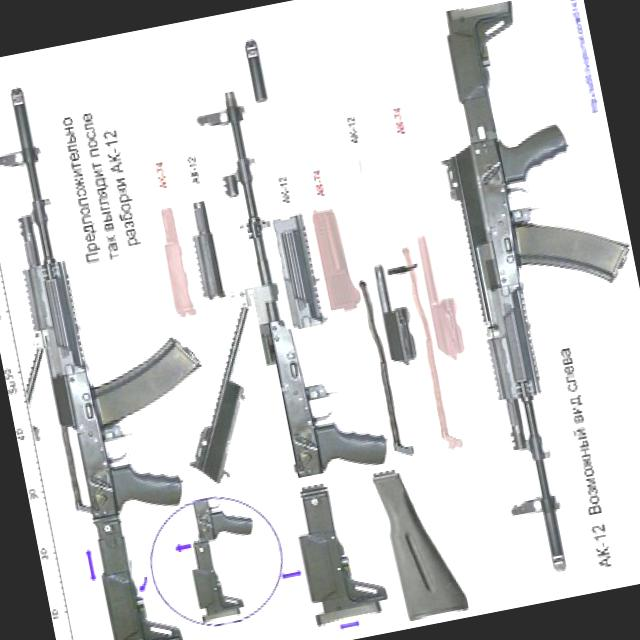long weapon: (0, 49, 248, 639), (402, 0, 639, 596), (189, 67, 407, 639)
